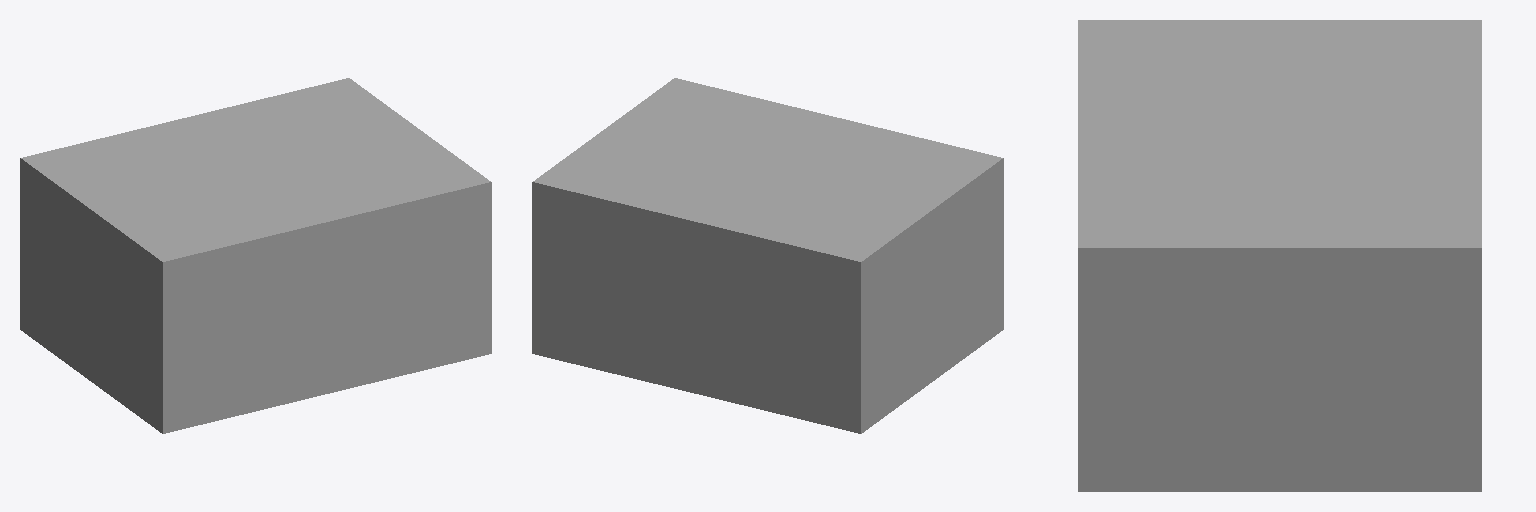
The robot description file, URDF, robot "simple_rect_box":
<?xml version="1.0"?>
<robot name="simple_rect_box">
  <link name="box_link">
    <inertial>
      <origin xyz="0 0 0" rpy="0 0 0"/>
      <mass value="0.25"/>
      <inertia ixx="1e-3" ixy="0" ixz="0" iyy="1e-3" iyz="0" izz="1e-3"/>
    </inertial>
    <visual>
      <origin xyz="0 0 0" rpy="0 0 0"/>
      <geometry>
        <!-- size: 0.2 x 0.15 x 0.1 (meters) - larger for better visibility -->
        <box size="0.2 0.15 0.1"/>
      </geometry>
      <material name="gray">
        <color rgba="0.7 0.7 0.7 1"/>
      </material>
    </visual>
    <collision>
      <origin xyz="0 0 0" rpy="0 0 0"/>
      <geometry>
        <box size="0.2 0.15 0.1"/>
      </geometry>
    </collision>
  </link>
</robot>

--- What the picture shows (computed from the rendered views, not written in the file) ---
Views: 3 orthographic renders of the robot side by side, from view 1: azimuth 30°, elevation 25°; view 2: azimuth 150°, elevation 25°; view 3: azimuth 270°, elevation 25°.
Model simple_rect_box with 1 links and 0 joints (none), rooted at box_link, posed every joint at zero.
Visible links, largest first — view 1: box_link; view 2: box_link; view 3: box_link.
Boxes of the visible links, x1,y1,x2,y2 form: box_link: (20,78,491,433); box_link: (532,78,1003,433); box_link: (1078,20,1481,491).
Bounding box of the posed robot: 0.2 × 0.15 × 0.1 m (x, y, z).
Geometry: primitives only (box / cylinder / sphere), no mesh files.
